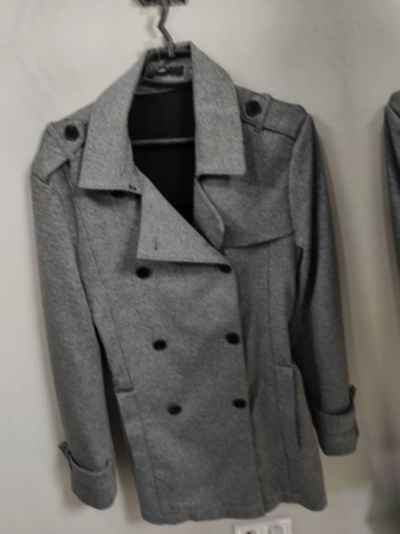Blazer: (0, 33, 380, 534), (355, 0, 400, 493), (0, 0, 315, 21)
